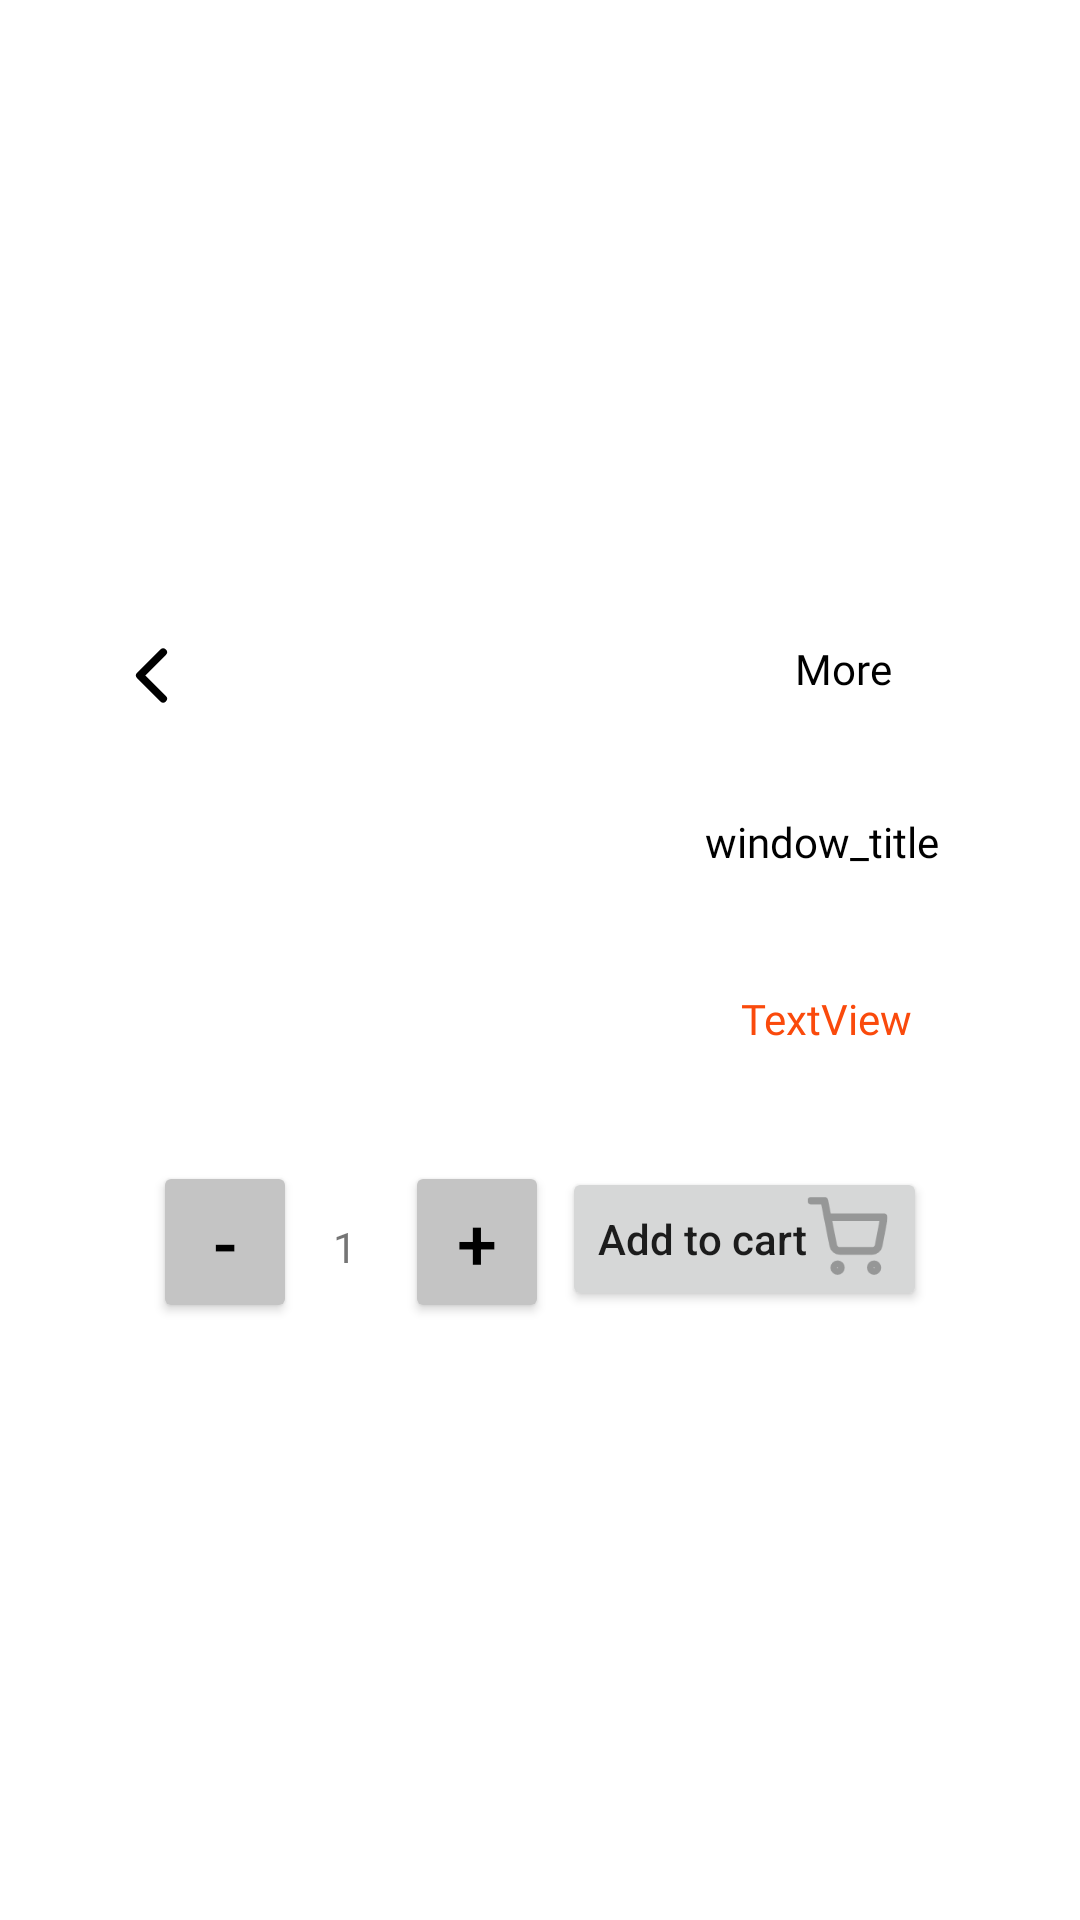

Screen size 1080w x 1920h. Icon name, then its box in pixels as Rect(x1, y1, x2, y2):
chevron left: Rect(135, 648, 168, 703)
